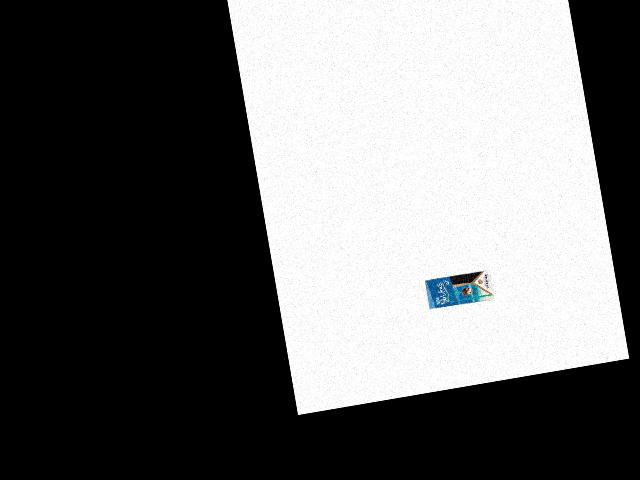chocolate: (423, 267, 496, 311)
